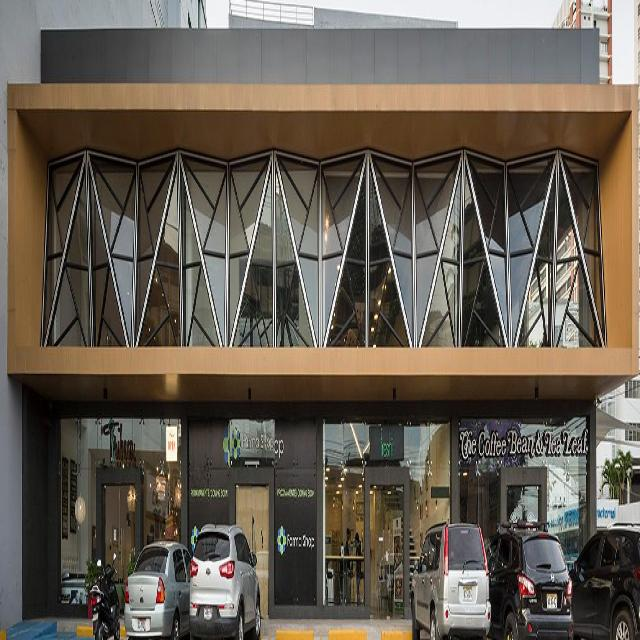door: (364, 467, 409, 617), (97, 469, 143, 597), (234, 489, 270, 618)
window: (39, 146, 607, 346), (325, 420, 449, 606), (60, 417, 181, 598), (463, 415, 590, 535)
